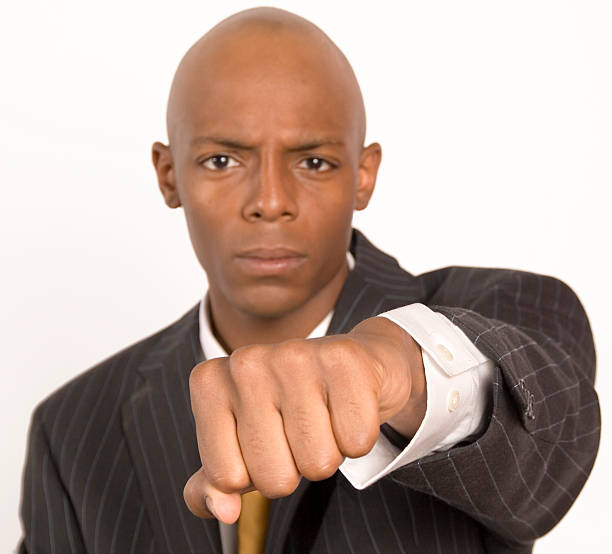Yes: (171, 334, 397, 526)
